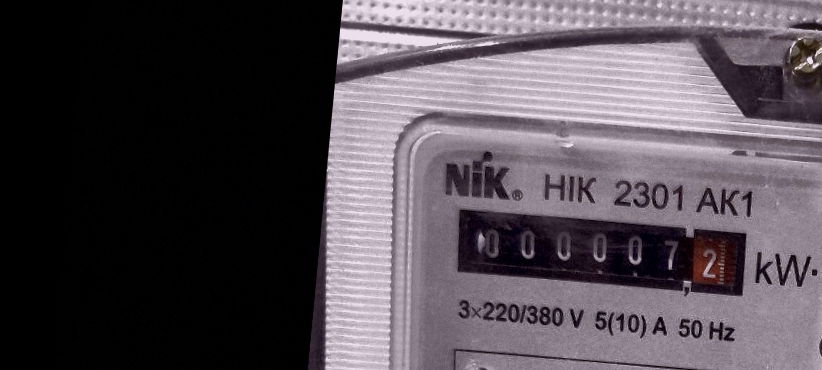0: (551, 226, 577, 266), (480, 224, 505, 261), (623, 231, 647, 269), (589, 230, 612, 268), (517, 226, 540, 262)
2: (698, 245, 722, 283)
7: (658, 235, 683, 275)
screen: (448, 198, 758, 307)
